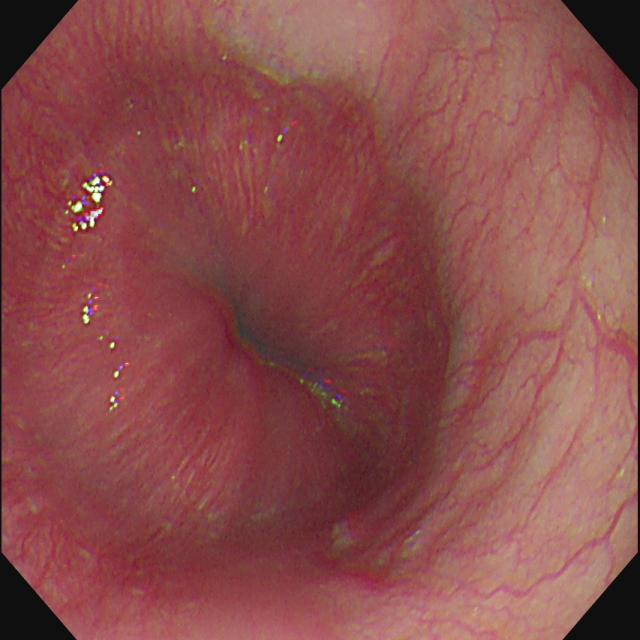I: (46, 73, 467, 566)
U: (65, 166, 114, 234), (109, 341, 131, 417), (303, 378, 351, 412), (80, 290, 101, 328)
